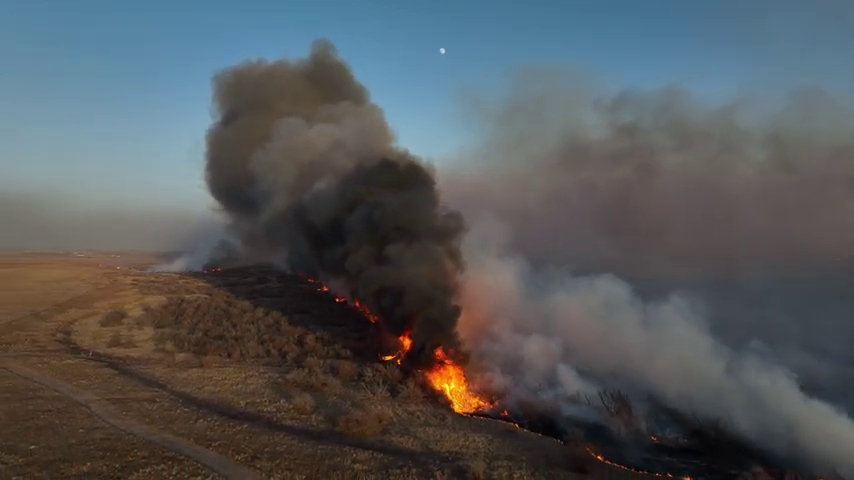forest_fire: (424, 347, 491, 412), (380, 333, 412, 363), (348, 299, 379, 321)
